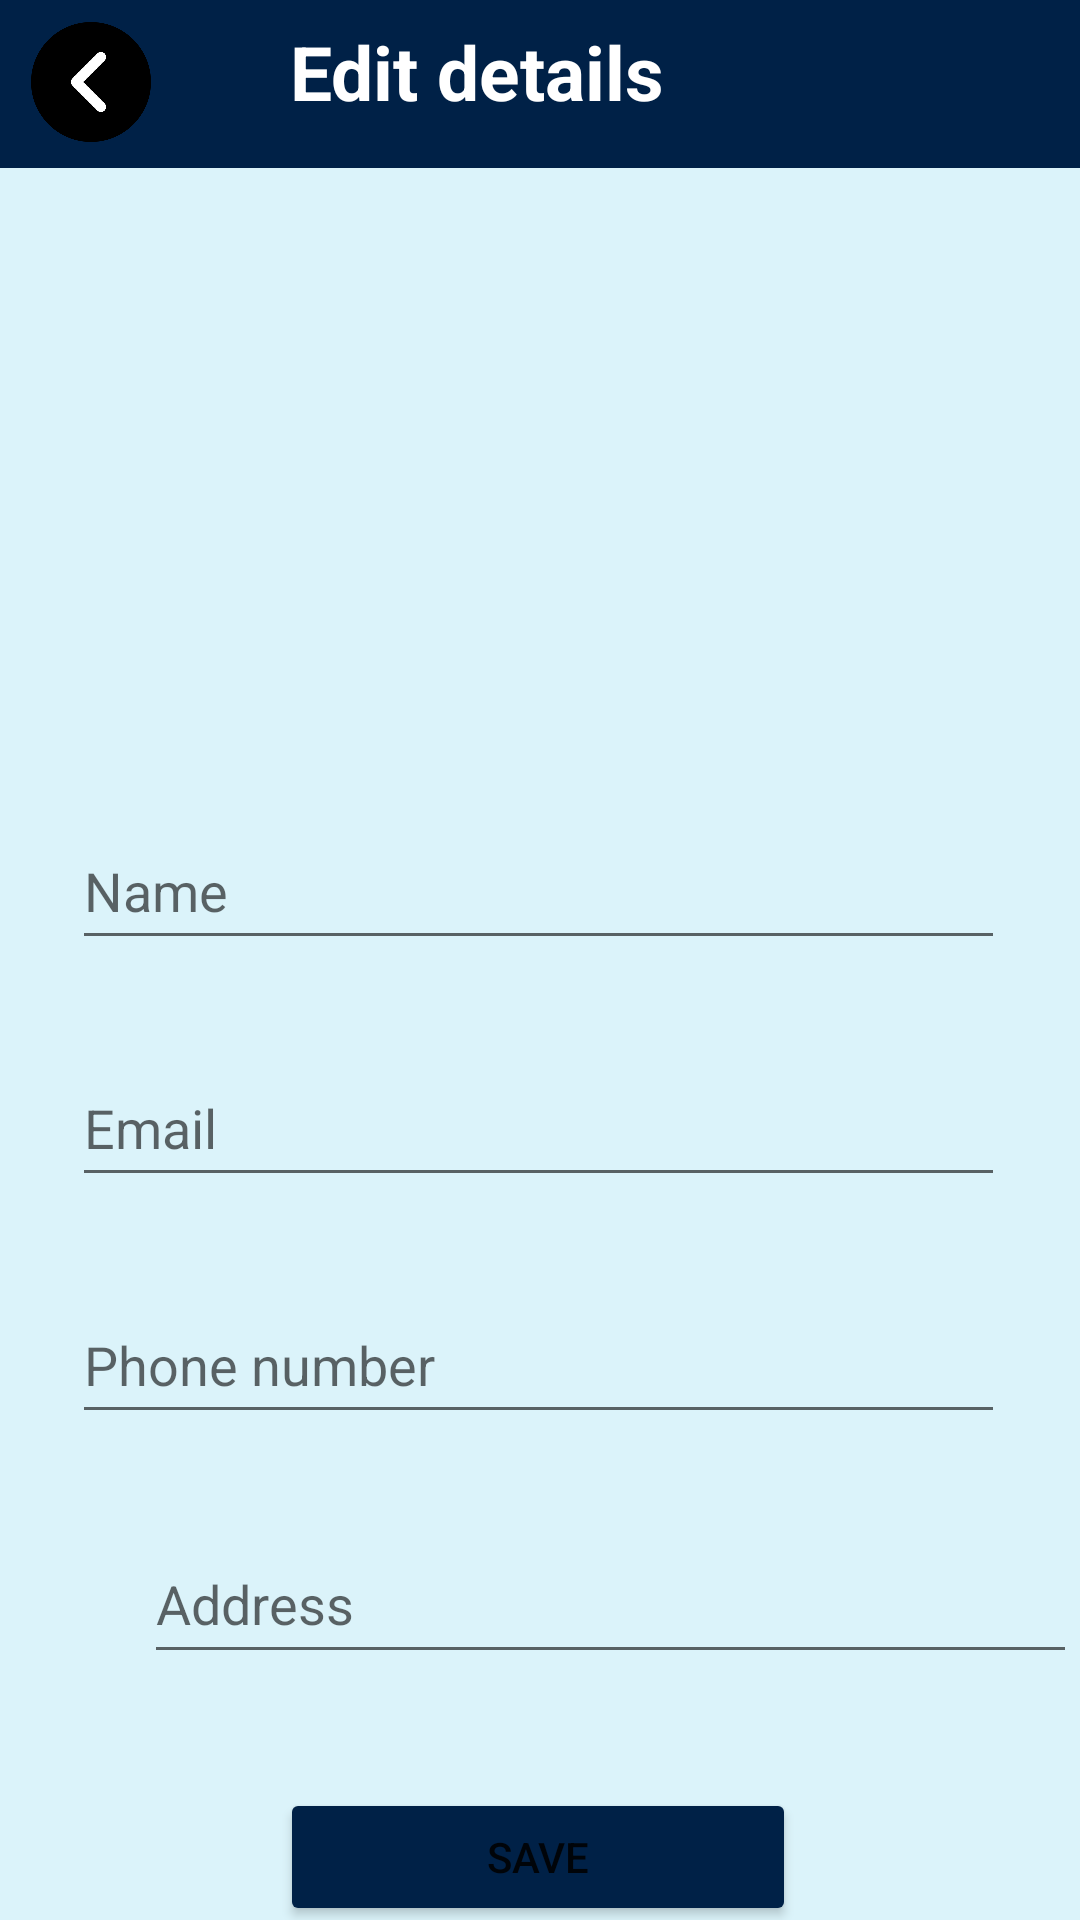

Named icons in this screenshot (1080px×1920px) and their centers, (x,y):
back: (91,82)
